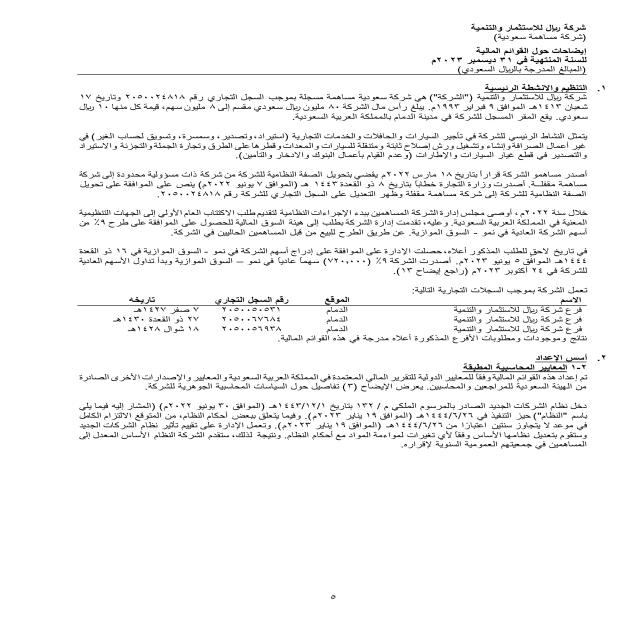notes: (464, 45, 588, 52)
table: (75, 290, 606, 350)
